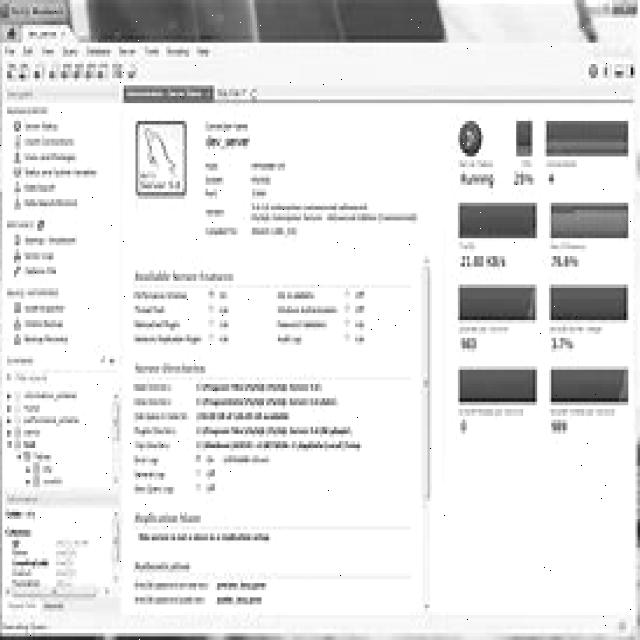button: (612, 0, 640, 18)
dropdownMenu: (5, 440, 72, 487), (13, 451, 66, 486), (6, 389, 79, 403), (6, 415, 82, 427), (5, 429, 48, 439), (6, 404, 41, 415), (24, 463, 55, 475), (24, 476, 64, 485)
icon: (133, 116, 190, 204), (12, 248, 22, 264), (13, 233, 23, 247), (13, 196, 22, 211), (11, 152, 23, 163), (13, 134, 21, 150), (13, 332, 22, 346), (13, 300, 22, 314), (12, 265, 22, 277), (12, 166, 22, 178), (12, 120, 22, 132), (14, 316, 21, 331), (14, 180, 22, 193)
label: (130, 359, 367, 506), (199, 116, 421, 239), (129, 265, 374, 354), (128, 557, 270, 609), (130, 510, 274, 555), (25, 167, 98, 178), (23, 233, 78, 247), (23, 196, 79, 209), (24, 333, 70, 347), (24, 302, 72, 314), (24, 136, 76, 147), (25, 151, 79, 161), (23, 318, 68, 328), (24, 121, 59, 132), (24, 250, 55, 262), (23, 182, 57, 192), (23, 266, 61, 274)
menu: (0, 44, 640, 100)
slider: (419, 248, 436, 617), (2, 583, 128, 602), (112, 378, 124, 488), (111, 504, 122, 580)
tabControl: (1, 19, 92, 46)
